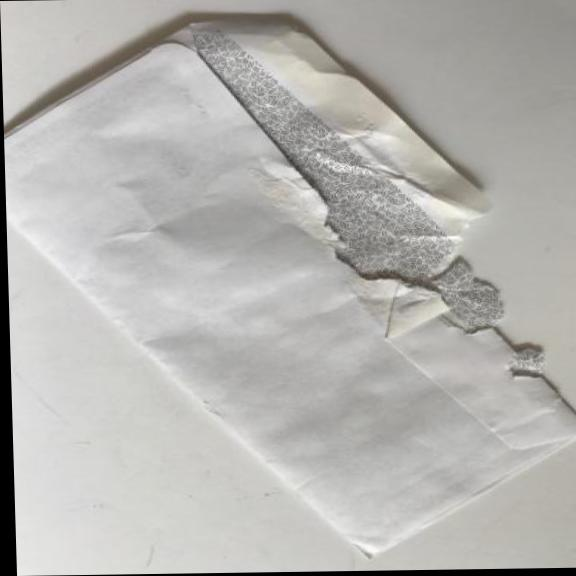Kertas: (0, 3, 576, 572)
